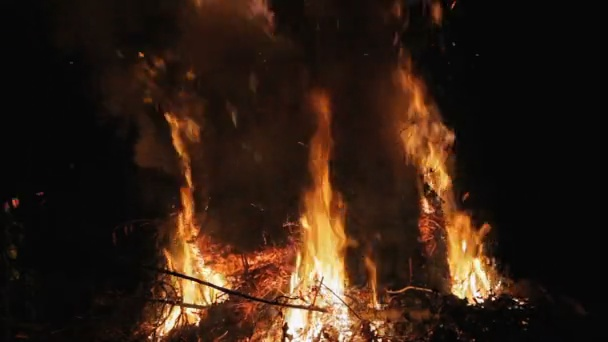fire: (398, 100, 502, 304), (286, 164, 352, 342), (147, 205, 233, 336)
